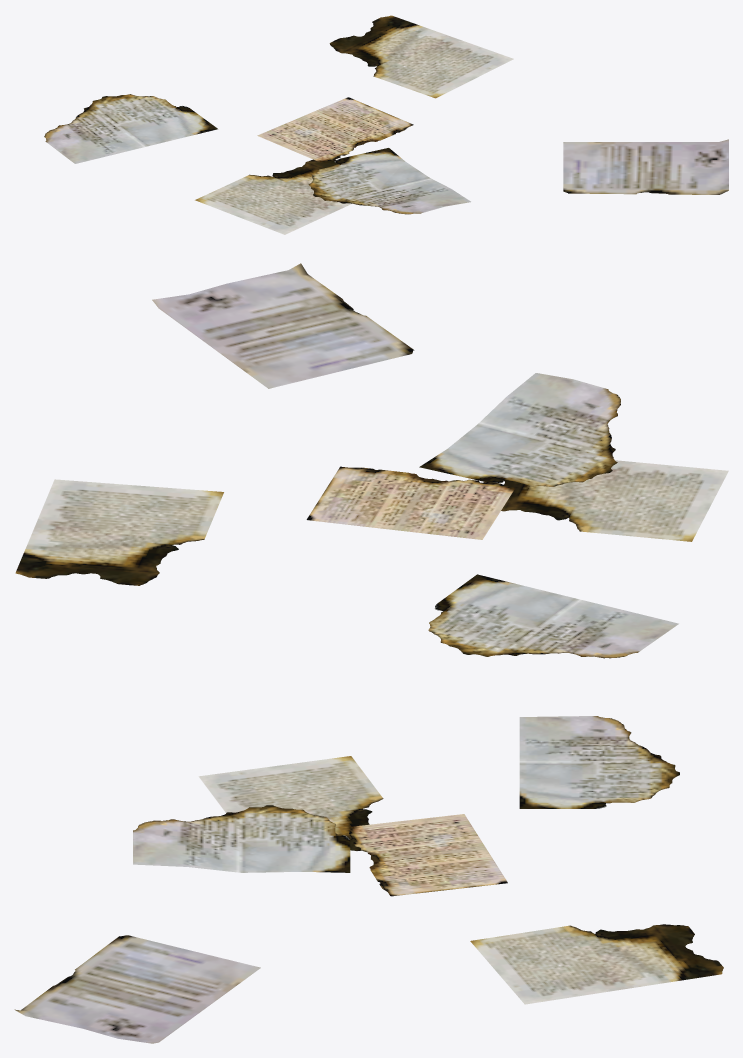
Rendered from Paper_Pile05.FBX.
3 renders of one model, top to bottom at view 1: azimuth 30°, elevation 25°; view 2: azimuth 150°, elevation 25°; view 3: azimuth 270°, elevation 25°, orthographic. The views are drawn at different scales.
Parts seen in each view (by area): view 1: Paper_Pile05; view 2: Paper_Pile05; view 3: Paper_Pile05.
Part boxes in pixels (x1,y1,x2,y2): Paper_Pile05: (44,15,728,234); Paper_Pile05: (15,263,728,658); Paper_Pile05: (14,716,723,1043).
Bounding box in the file's own units: 1.35 × 0.0375 × 1.24.
